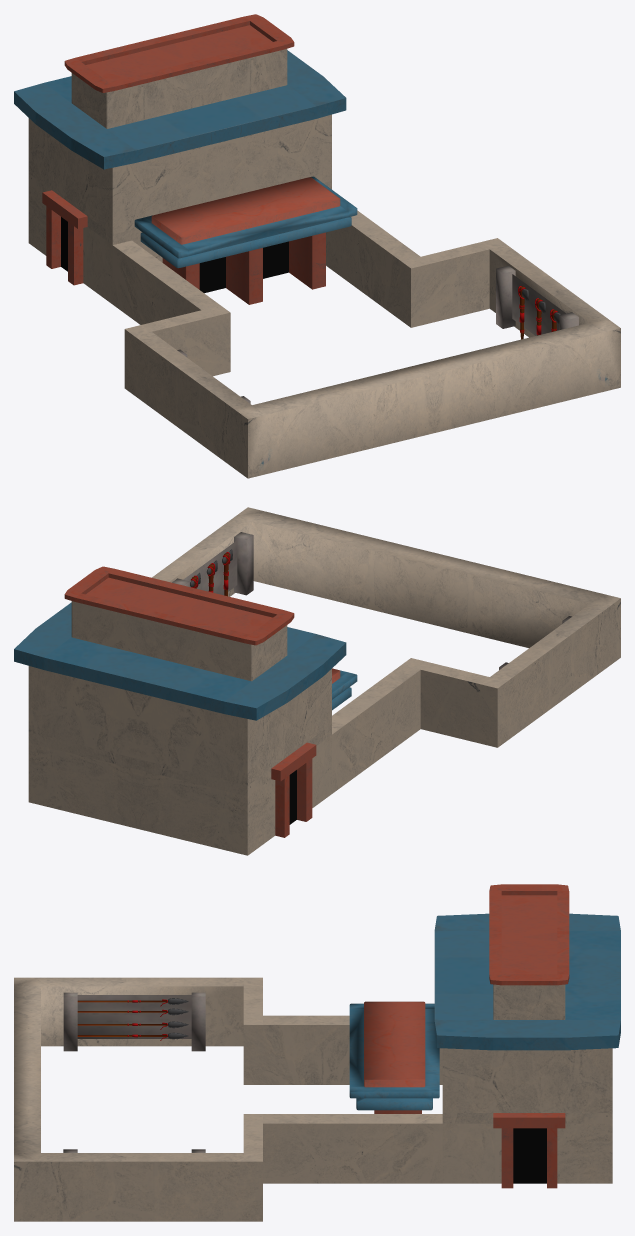
Rendered from pesados aztecas.fbx.
3 renders of one model, top to bottom at view 1: azimuth 30°, elevation 25°; view 2: azimuth 150°, elevation 25°; view 3: azimuth 270°, elevation 25°, orthographic.
Visible parts, largest first — view 1: ligeros; view 2: ligeros; view 3: ligeros.
Part boxes in pixels (bbox=[...]): ligeros: bbox=[14, 14, 620, 478]; ligeros: bbox=[14, 507, 620, 855]; ligeros: bbox=[14, 884, 620, 1221].
Bounding box in the file's own units: 976 × 495 × 1361.
Materials: 1 (1 with a texture image).
